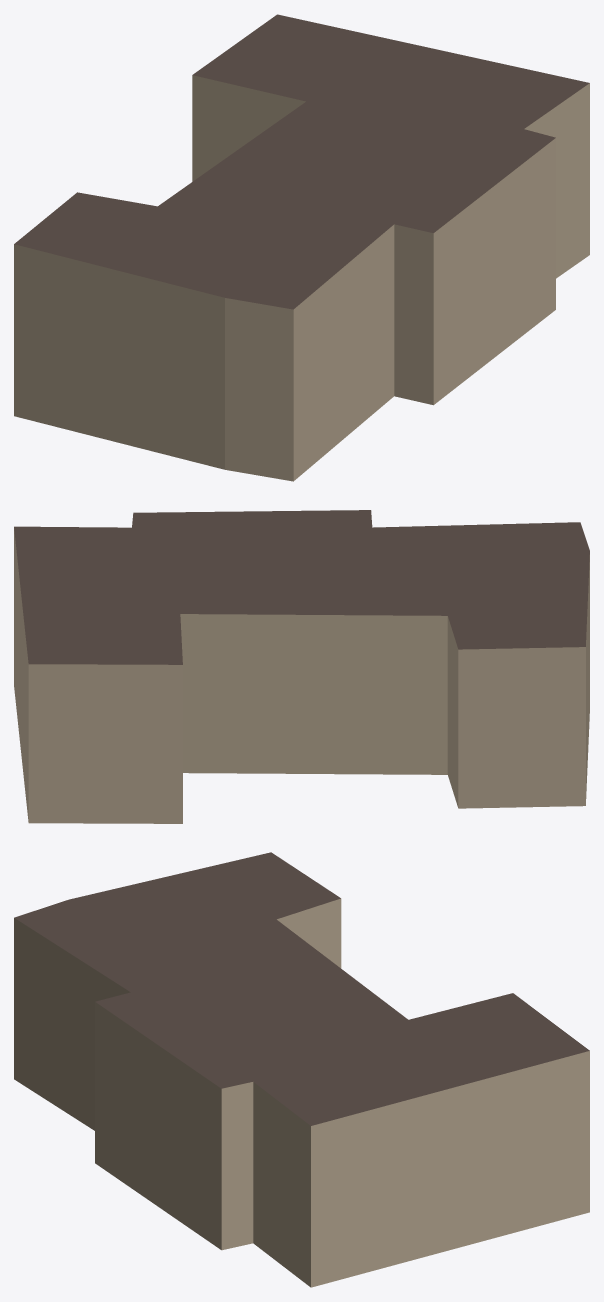
3 renders of one model, top to bottom at view 1: azimuth 30°, elevation 25°; view 2: azimuth 150°, elevation 25°; view 3: azimuth 270°, elevation 25°, orthographic. The views are drawn at different scales.
Visible parts, largest first — view 1: HP-w1516161941; view 2: HP-w1516161941; view 3: HP-w1516161941.
Boxes of the visible parts, left/top/right/bottom form: HP-w1516161941: left=14, top=14, right=589, bottom=481; HP-w1516161941: left=14, top=510, right=589, bottom=823; HP-w1516161941: left=14, top=852, right=589, bottom=1287.
Bounding box in the file's own units: 32.7 × 9 × 29.07.
